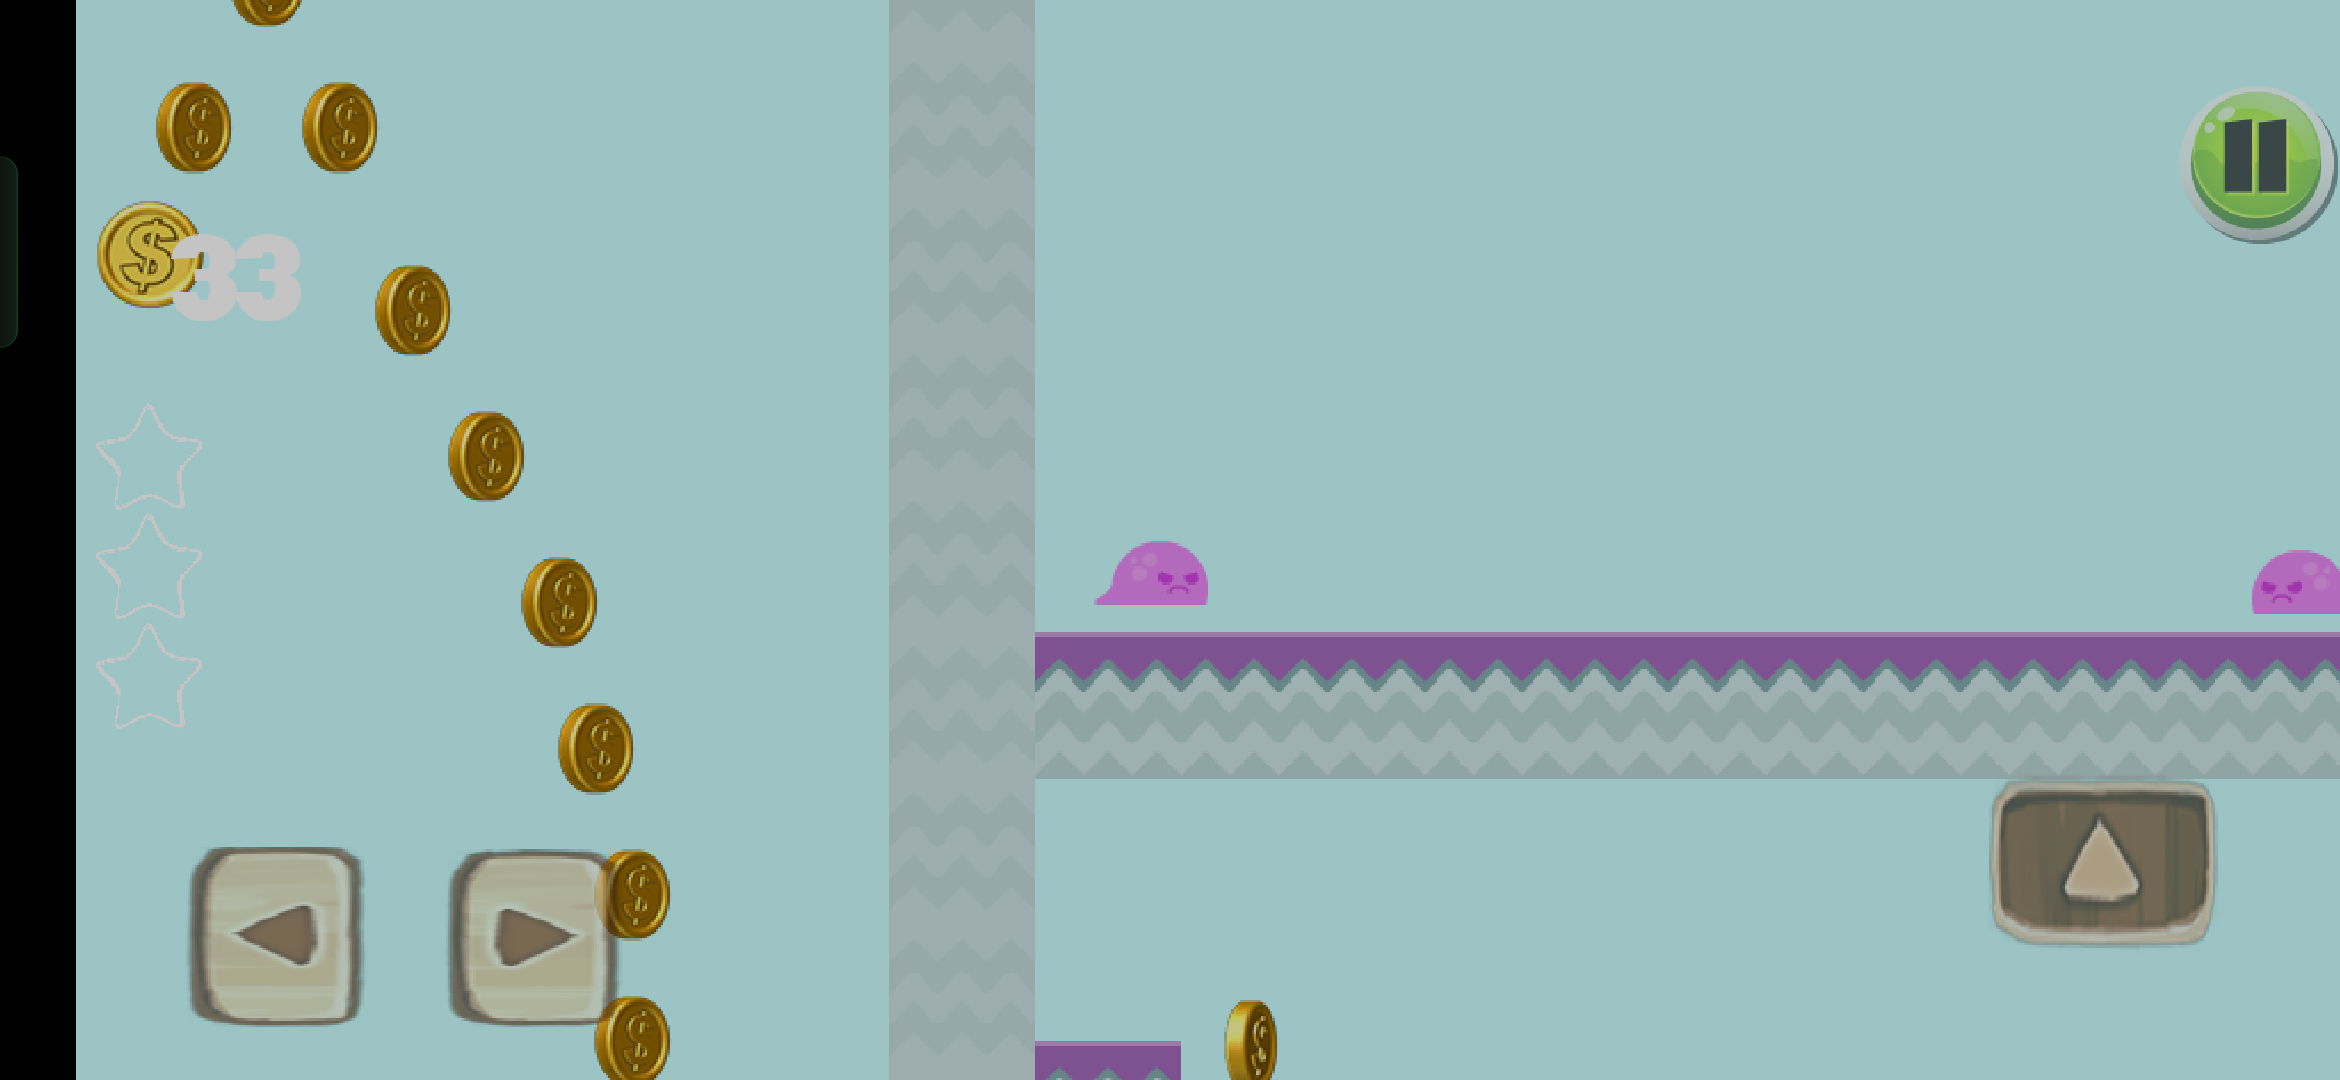Enemy: (1097, 540, 1204, 601), (2252, 549, 2337, 612)
